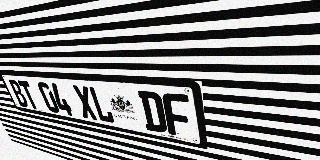0: (36, 82, 61, 114)
4: (48, 83, 74, 116)
B: (7, 79, 30, 108)
D: (137, 90, 168, 134)
F: (161, 93, 193, 139)
L: (88, 86, 116, 124)
T: (17, 80, 40, 110)
X: (72, 85, 99, 121)
